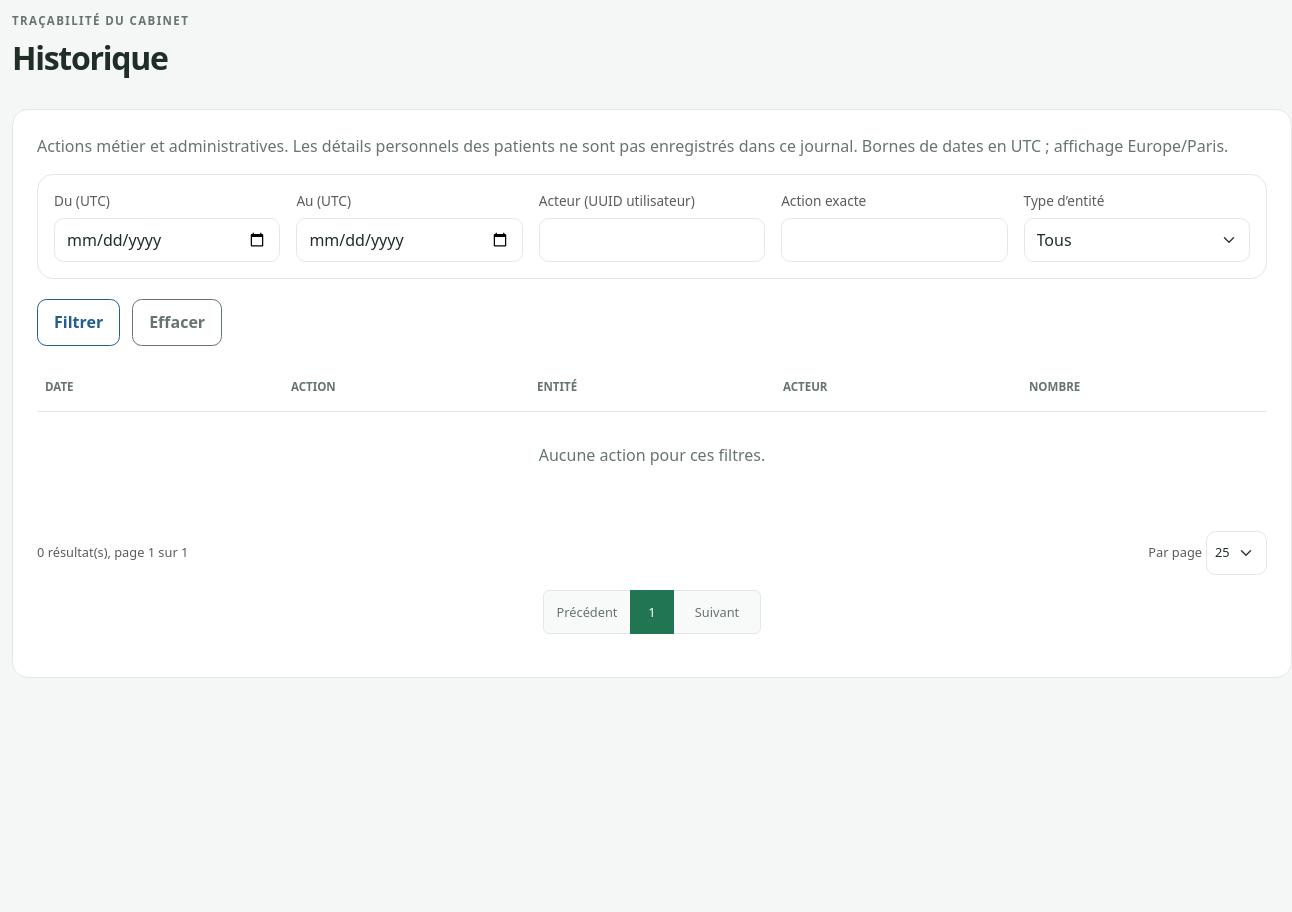
historique : composant partagé, validation des dates conservée et application des filtres
The image size is (1292, 912).
Check: the element named "Recherche et filtres" is shown, box [37, 174, 1267, 279]
Check: the text "Aucune action pour ces filtres." is shown, box [539, 444, 765, 466]
Type "2026-10-29" into the date field labelled "Du (UTC)" at [167, 240], box [54, 218, 280, 262]
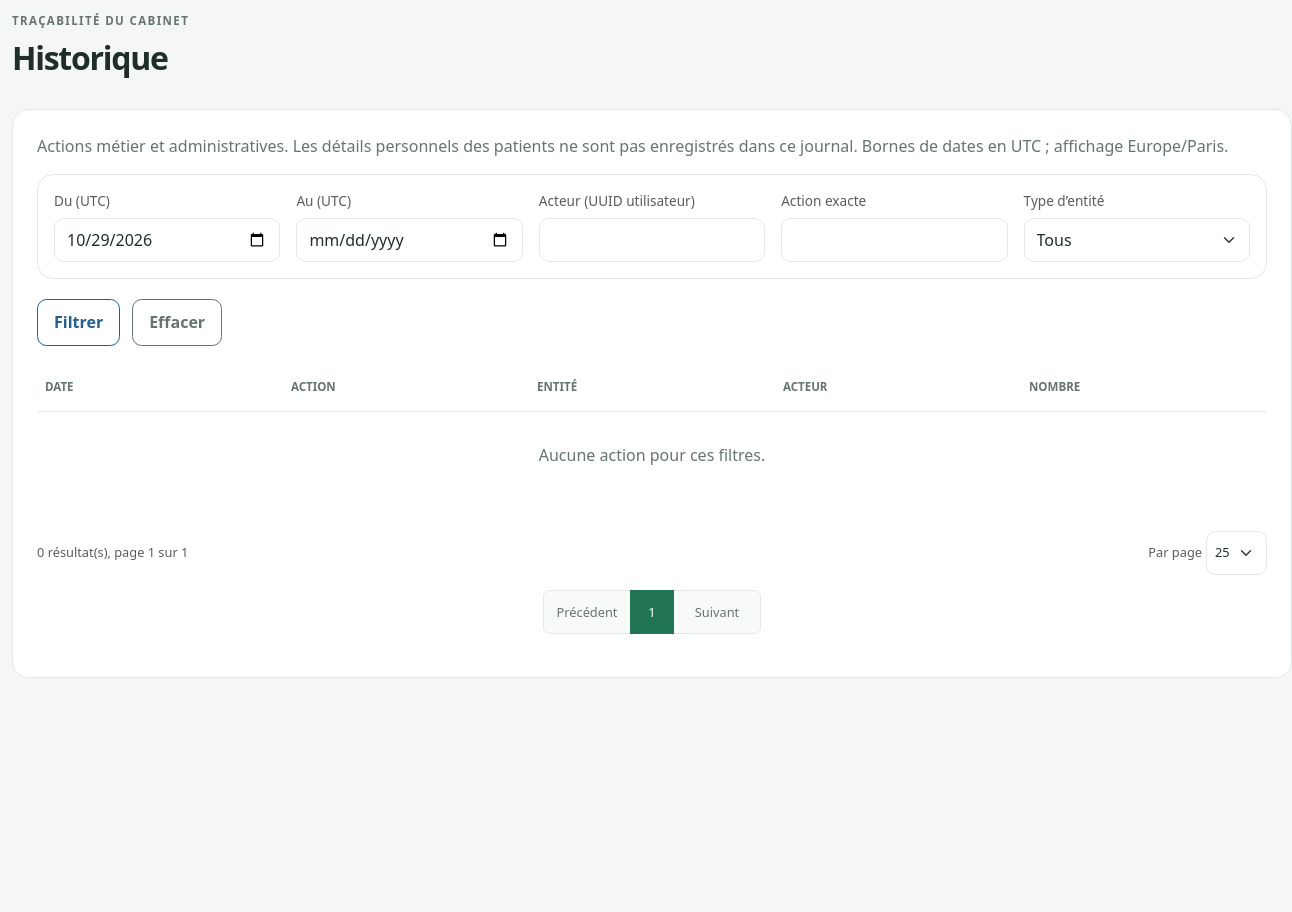
Type "2026-10-28" into the date field labelled "Au (UTC)" at [410, 240], box [296, 218, 523, 262]
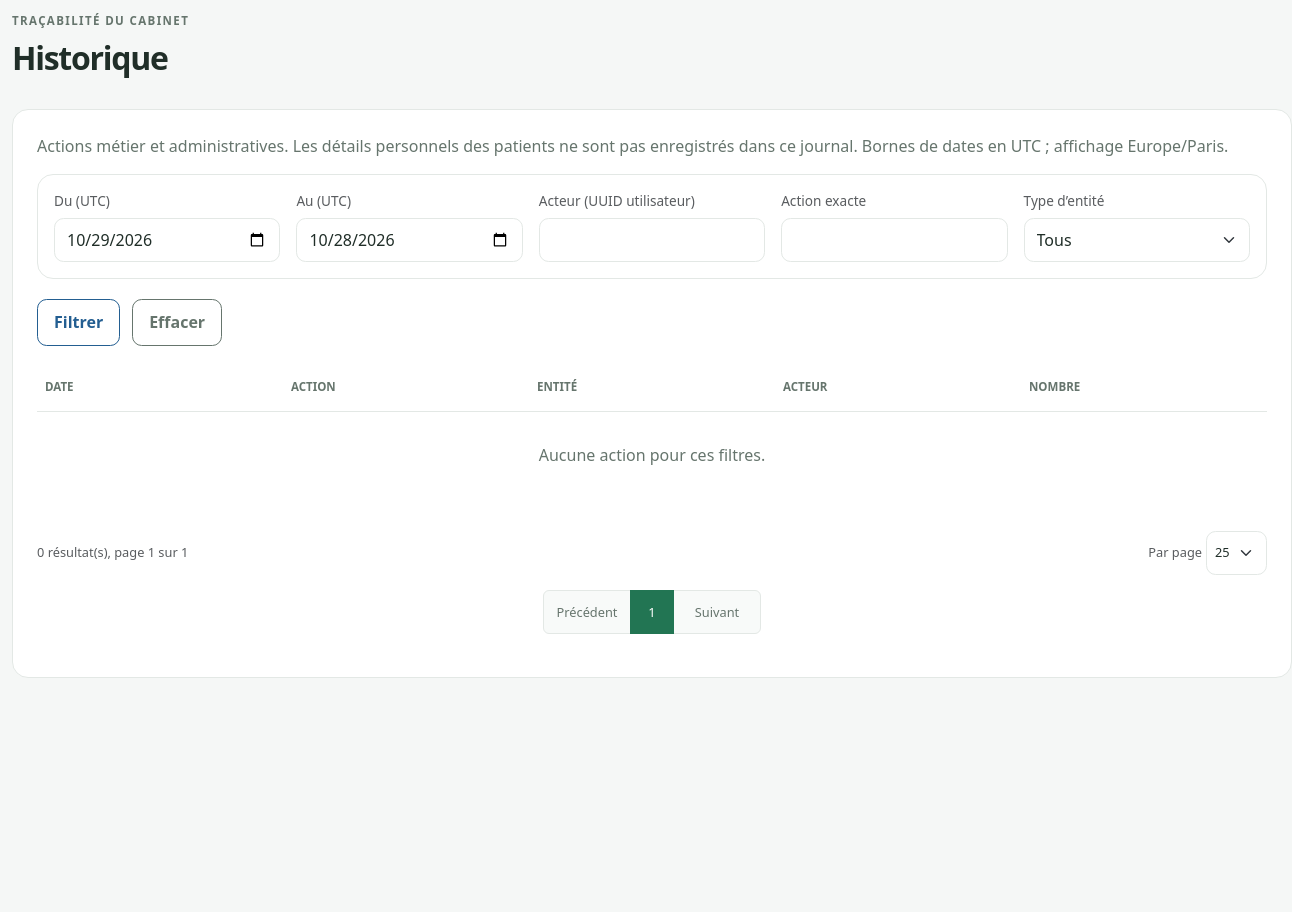
Click the button "Filtrer" at [79, 322], box [37, 299, 120, 346]
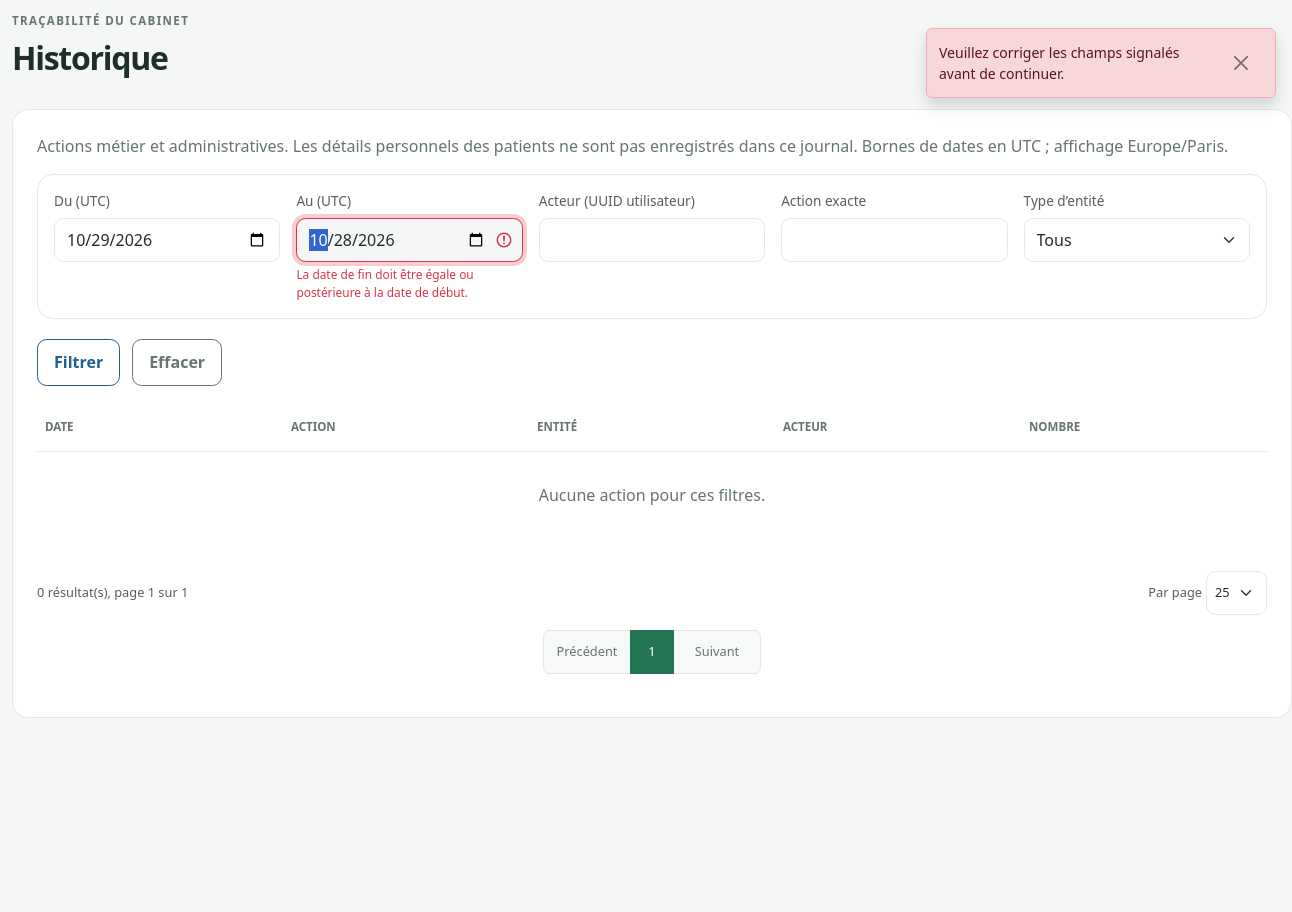
Check: the date field labelled "Au (UTC)" has class "is-invalid"
Type "2026-10-30" into the date field labelled "Au (UTC)" at [410, 240], box [296, 218, 523, 262]
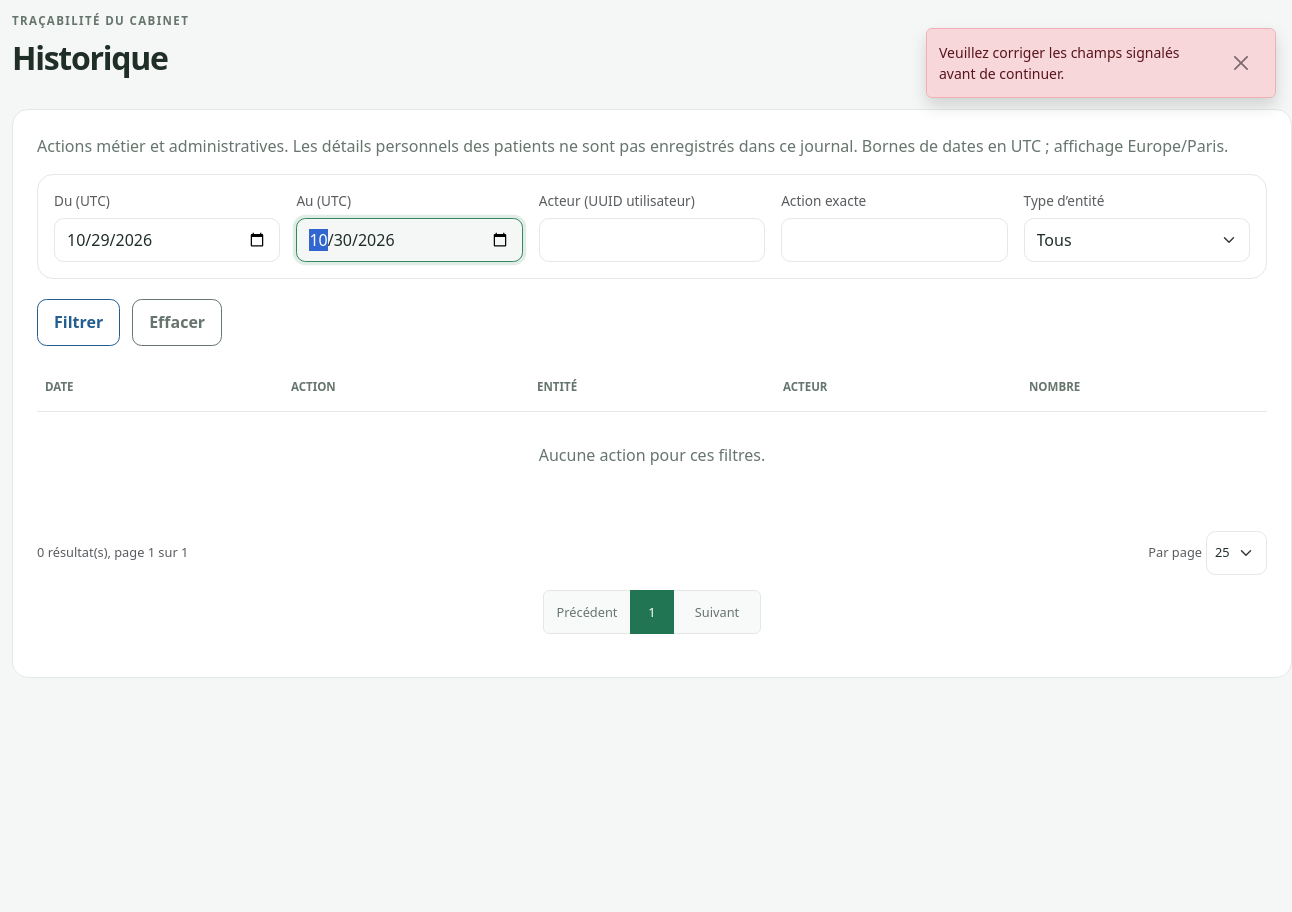
Click the button "Filtrer" at [79, 322], box [37, 299, 120, 346]
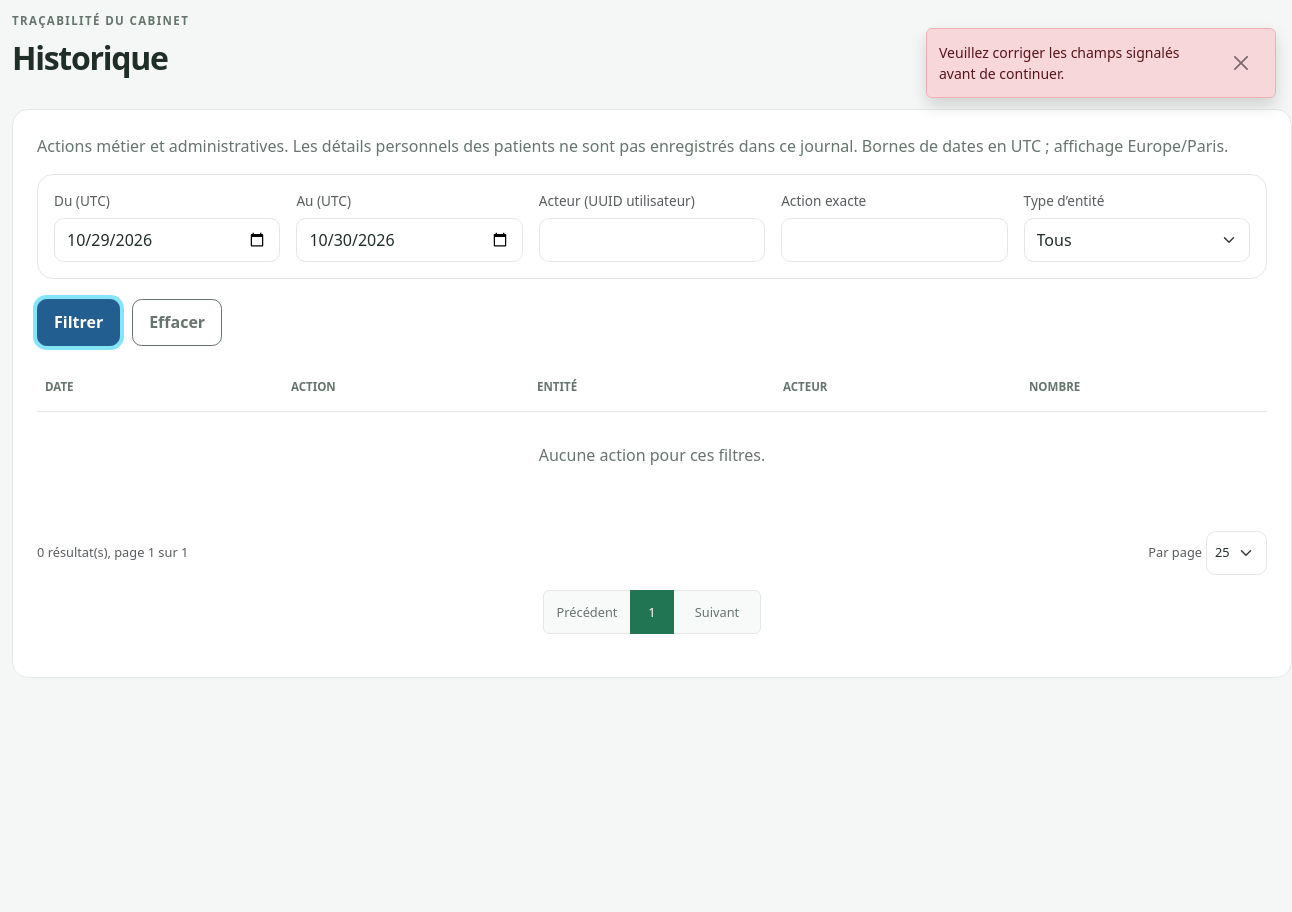
Click the button "Effacer" at [177, 322], box [132, 299, 222, 346]
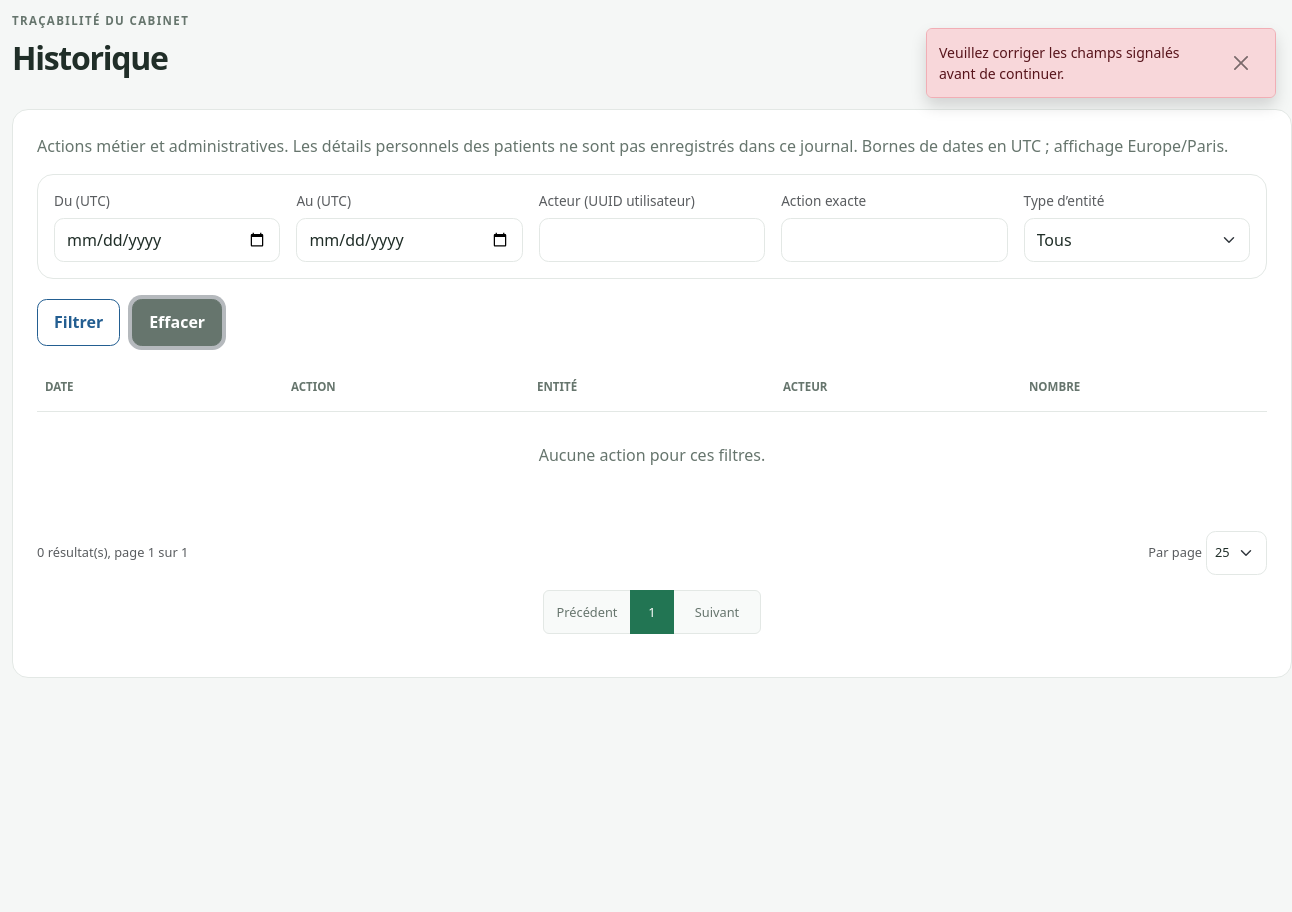
Check: the date field labelled "Du (UTC)" is empty, box [54, 218, 280, 262]
